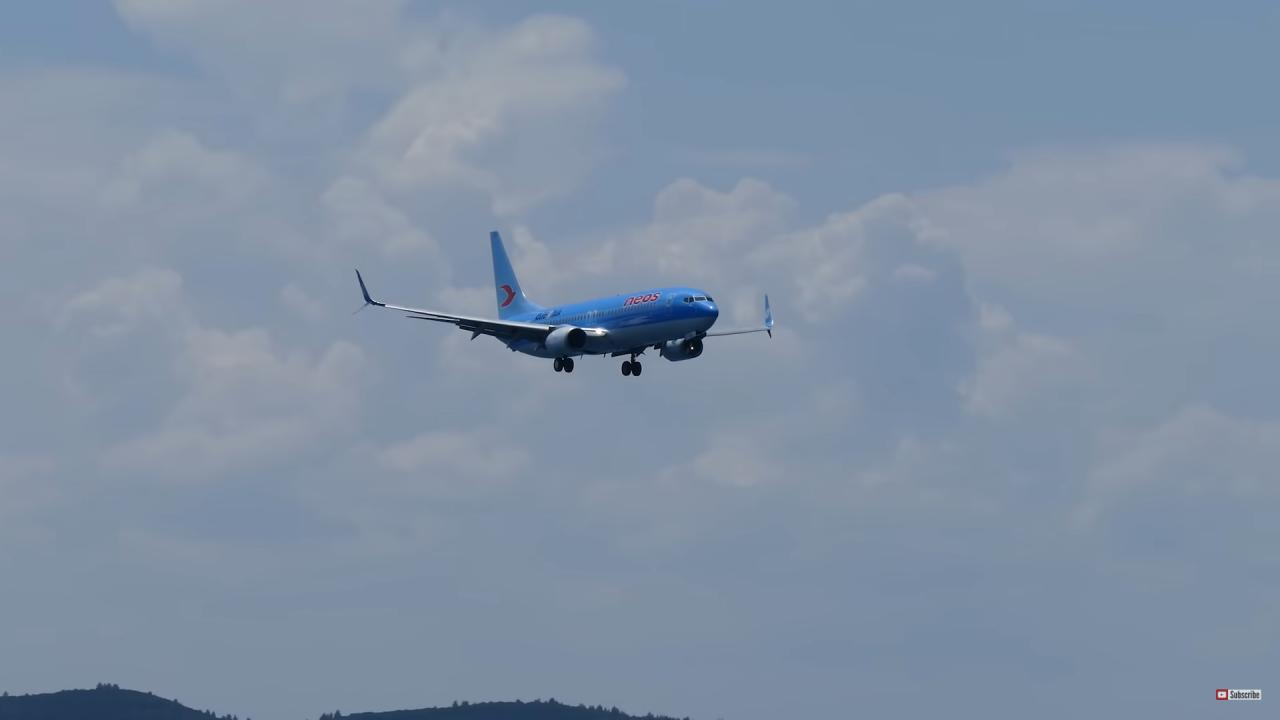Airplane: (344, 225, 794, 394)
